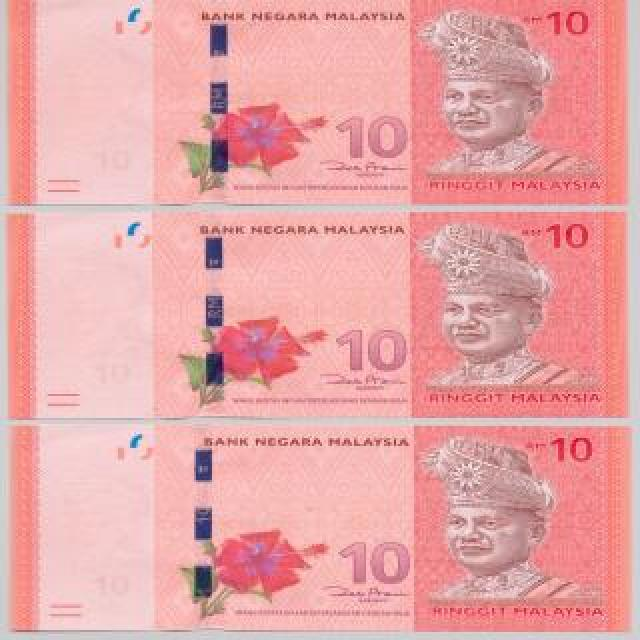10 Ringgit: (4, 424, 638, 636), (10, 218, 628, 424), (10, 0, 624, 200)
